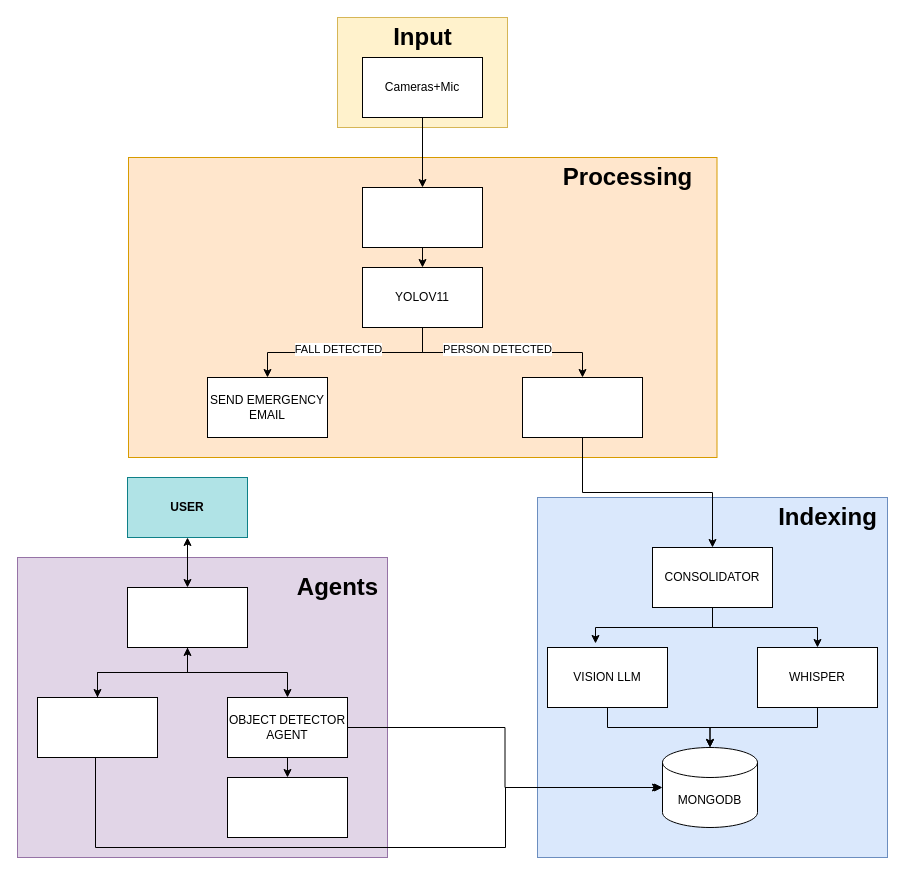
Some shapes in this 905 by 875 pixel diagram are drawn without their labels. The shapes that lost their labels are listed below. From the top down, each one's box as (x1, y1, x2, y2) in pixels, then its label:
(362, 186, 482, 248): INPUT FEED
(522, 376, 642, 438): RECORD & STORE
(126, 586, 248, 648): JEEVES AGENT
(36, 696, 158, 758): TIME AGENT
(226, 776, 348, 838): SAM 3
